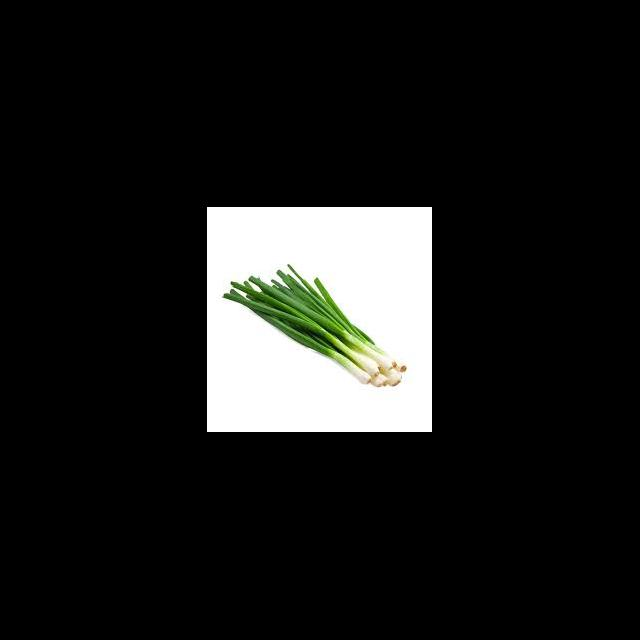green_onion: (220, 261, 414, 389)
